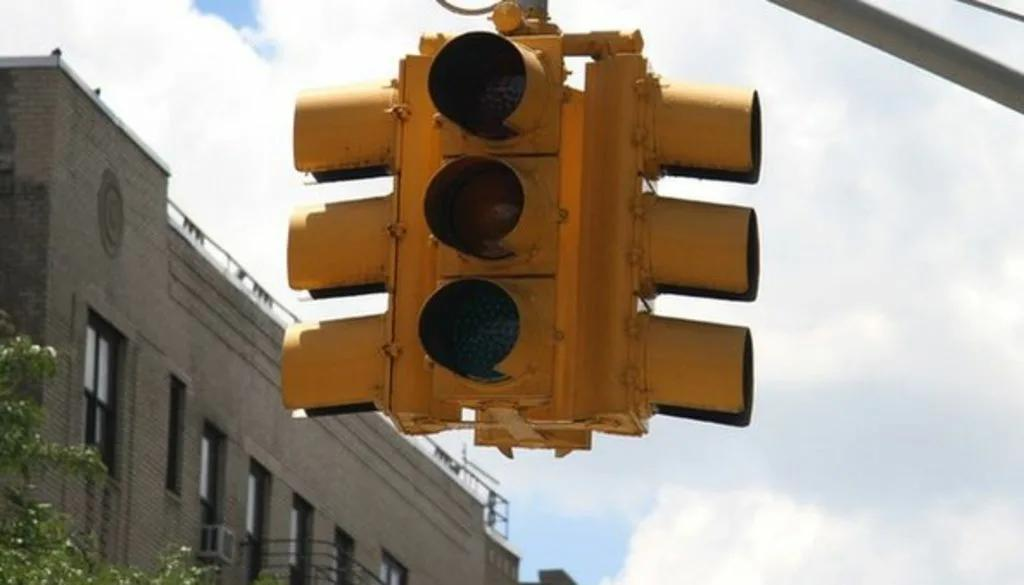off traffic light: (576, 30, 760, 436), (281, 53, 462, 438), (416, 28, 563, 400)
